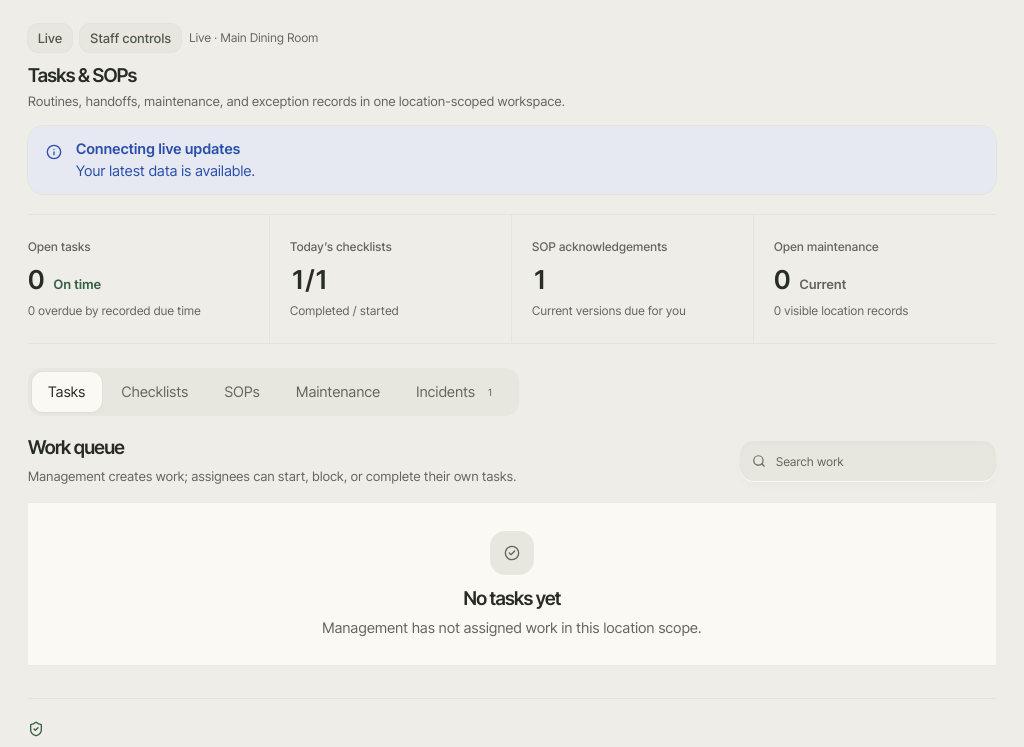
Test: connected Operations review interactions › shows only the published SOP version and records acknowledgement through the server action
Click the tab "SOPs" at (242, 392), box [208,372,276,412]
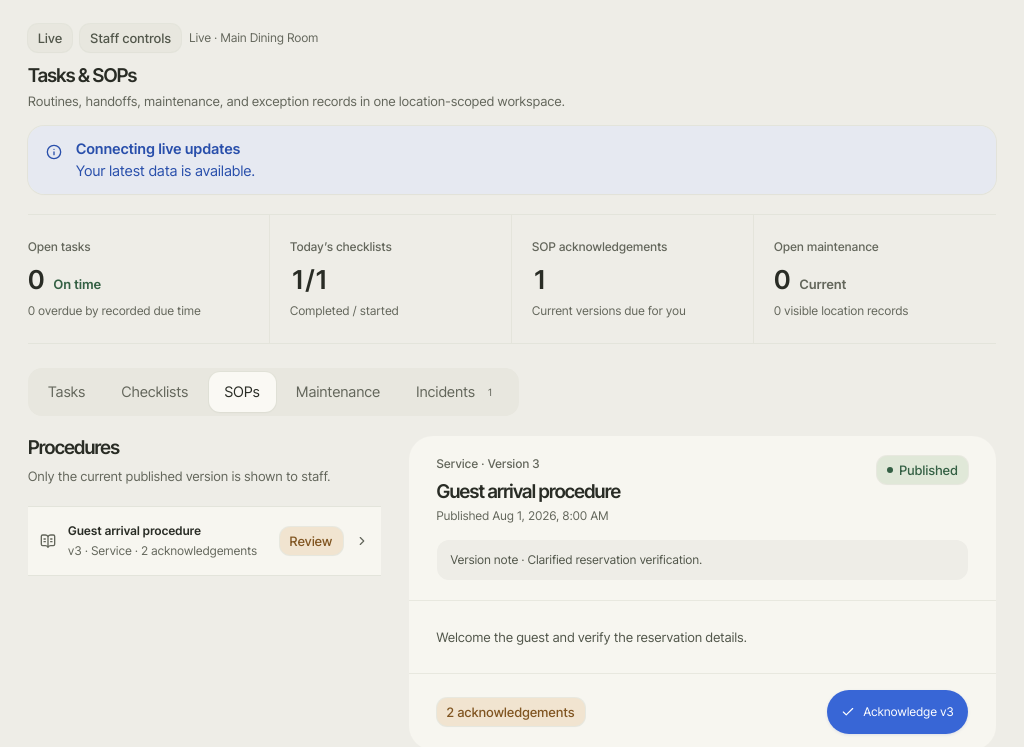
Now the text "Guest arrival procedure" is shown, box [68,523,201,538]
Now the text "Welcome the guest and verify the reservation details." is shown, box [436,629,747,645]
Now the button "Acknowledge v3" is enabled
Click the button "Acknowledge v3" at (898, 712), box [828,690,968,734]
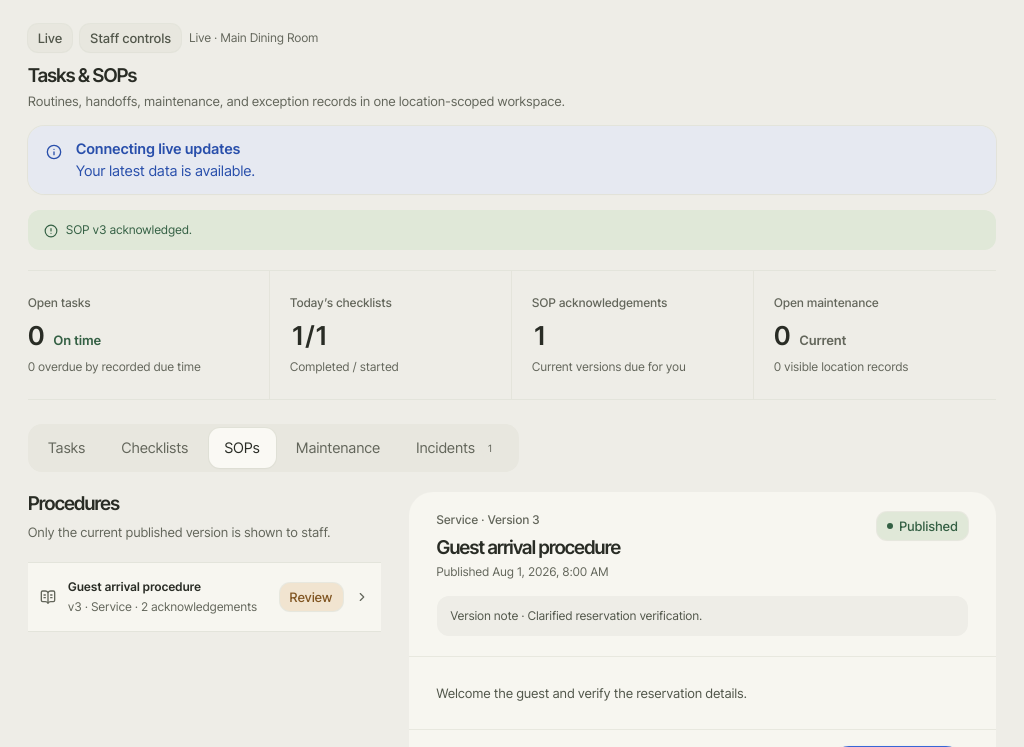
Now the text "SOP v3 acknowledged." is shown, box [28,210,996,250]
